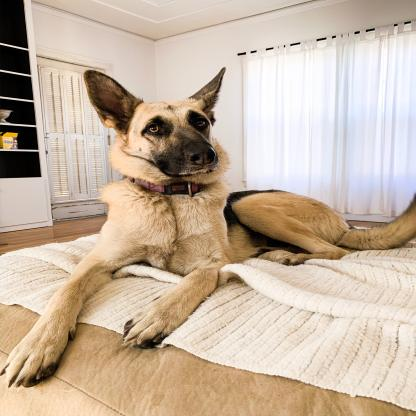german shepherd: (0, 62, 416, 375)
